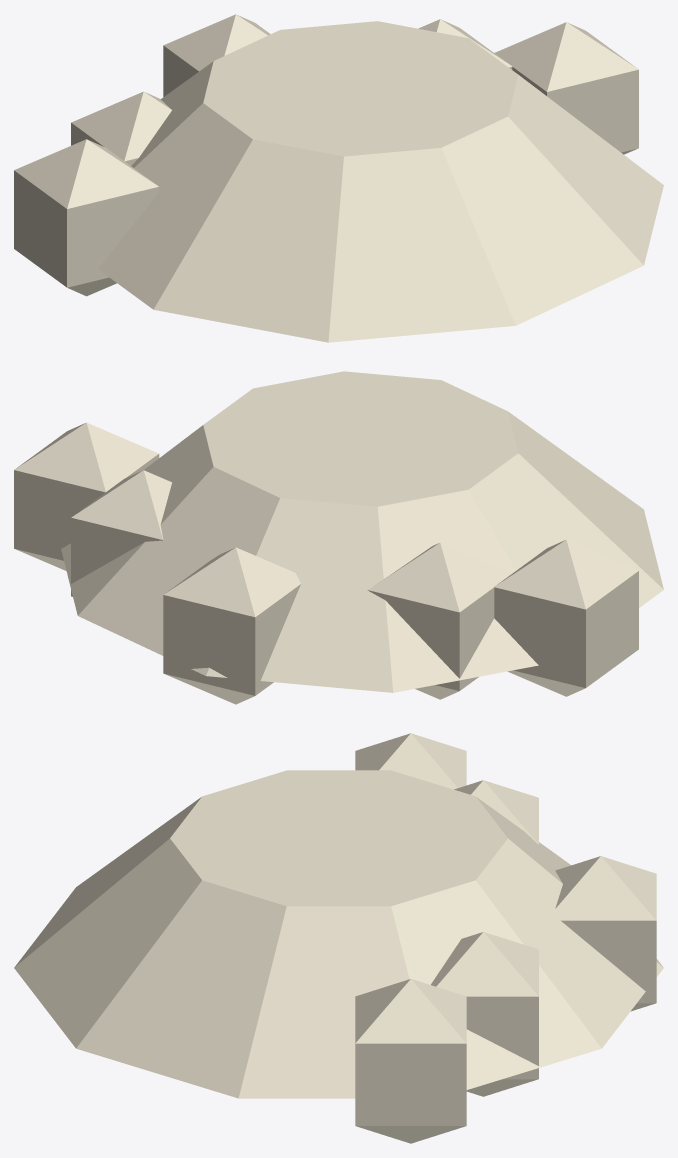
File: villager-cape.glb
3 views of the same model, one above another, from view 1: azimuth 30°, elevation 25°; view 2: azimuth 150°, elevation 25°; view 3: azimuth 270°, elevation 25° (orthographic). The views are drawn at different scales.
Visible parts, largest first — view 1: cape; view 2: cape; view 3: cape.
Part boxes in pixels (x1,y1,x2,y2): cape: (14, 14, 663, 342); cape: (14, 371, 663, 704); cape: (14, 733, 663, 1143).
Size of the model in its own units: 1.07 by 0.31 by 1.
1 material, 1 textured.
